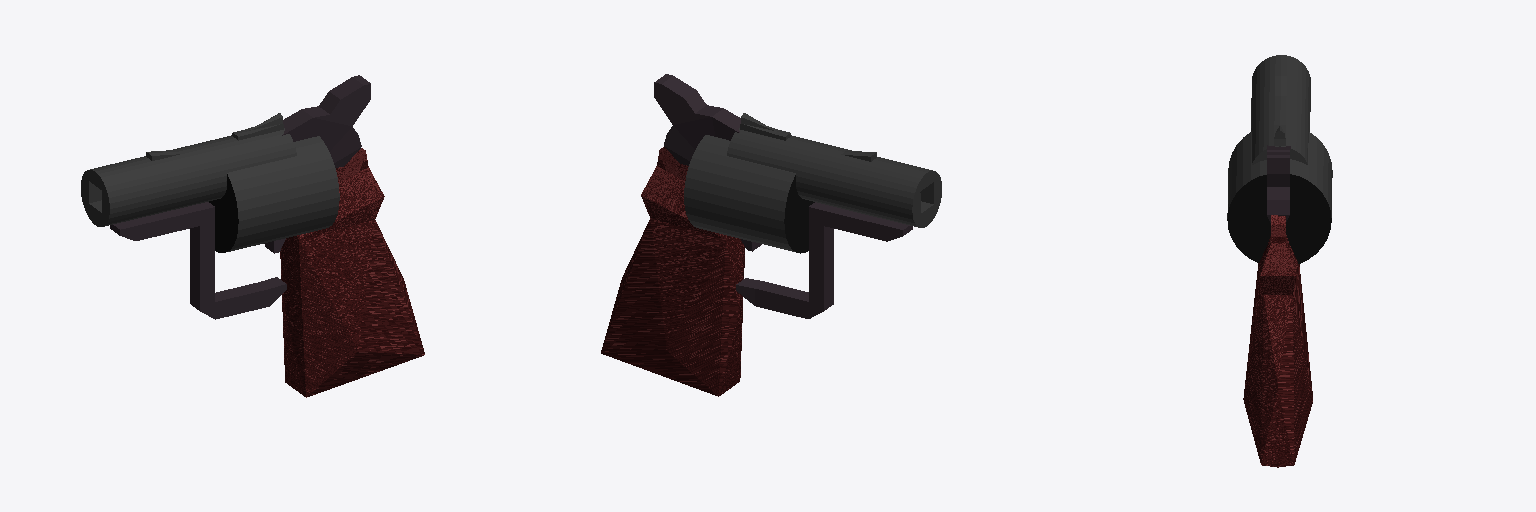
The picture shows the model from 3 angles: view 1: azimuth 30°, elevation 25°; view 2: azimuth 150°, elevation 25°; view 3: azimuth 270°, elevation 25°; orthographic projection.
Parts seen in each view (by area): view 1: Revolver_001_Revolver.001; view 2: Revolver_001_Revolver.001; view 3: Revolver_001_Revolver.001.
Part boxes in pixels (bbox=[...]): Revolver_001_Revolver.001: bbox=[81, 75, 424, 397]; Revolver_001_Revolver.001: bbox=[601, 74, 941, 396]; Revolver_001_Revolver.001: bbox=[1227, 55, 1332, 467].
Bounding box in the file's own units: 2.22 × 2 × 0.632.
Materials: 6 (1 with a texture image).